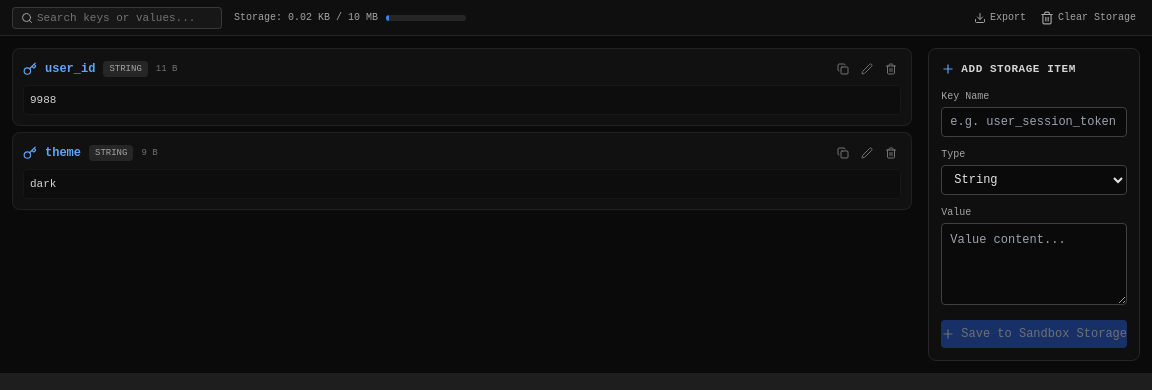
Test: Milestone 4: Multi-Lane Debugger & Storage Suite › 4. StorageExplorer Component › clears all storage when Clear Storage button is clicked
This screenshot has width=1152, height=390.
Click the button "Clear Storage" at (1088,18), box [1036, 6, 1140, 30]
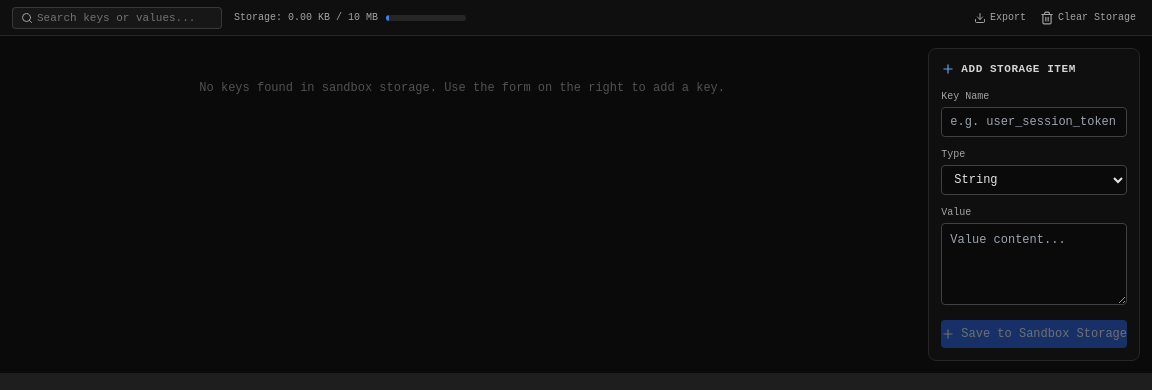
Result: the text "No keys found in sandbox storage" is shown at [199, 81, 725, 95]
